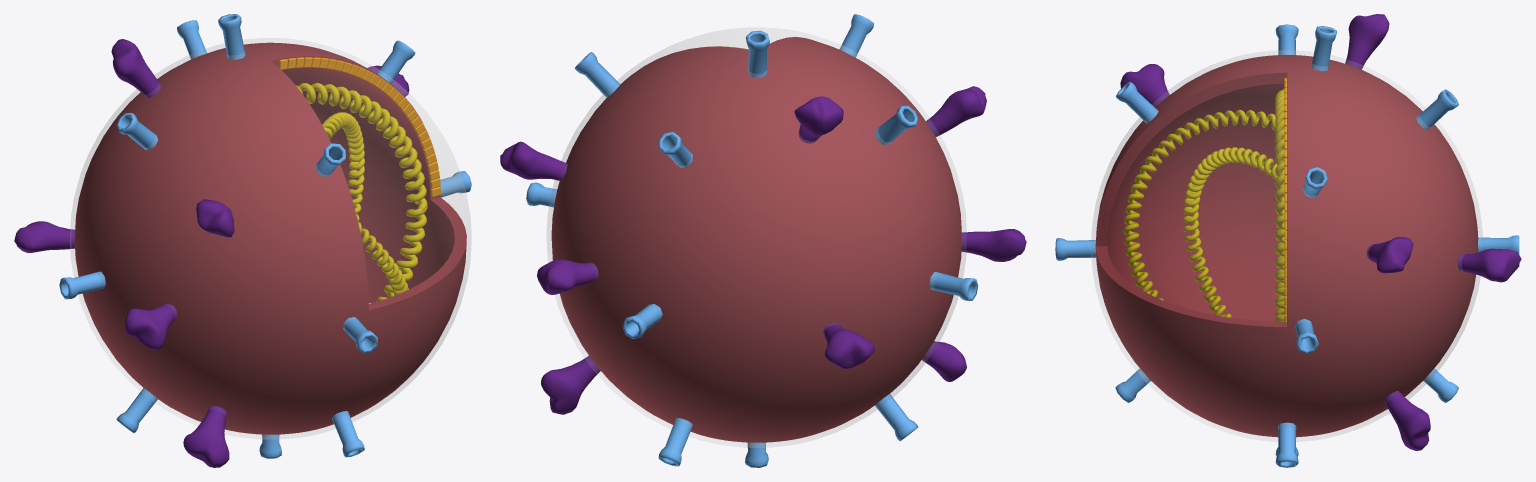
File: covidinside.glb
3 views of the same model, side by side, from view 1: azimuth 30°, elevation 25°; view 2: azimuth 150°, elevation 25°; view 3: azimuth 270°, elevation 25° (orthographic). The views are drawn at different scales.
Parts seen in each view (by area): view 1: CAPA_0, RECORTE_1, Cylinder.002_2, RNAS.002_4, Cylinder.001_6, Cylinder.018_3, Cube.018_5; view 2: CAPA_0, RECORTE_1, Cylinder.002_2, Cylinder.018_3, Cylinder.001_6; view 3: CAPA_0, RECORTE_1, RNAS.002_4, Cylinder.002_2, Cylinder.018_3, Cylinder.001_6, Cube.018_5.
Part boxes in pixels (x1,y1,x2,y2): CAPA_0: (70,38,471,439); RECORTE_1: (74,42,466,434); Cylinder.002_2: (59,14,471,458); RNAS.002_4: (296,82,427,303); Cylinder.001_6: (111,39,229,467); Cylinder.018_3: (14,65,409,253); Cube.018_5: (279,57,441,197); CAPA_0: (546,27,966,447); RECORTE_1: (551,37,961,442); Cylinder.002_2: (526,14,978,467); Cylinder.018_3: (500,86,986,414); Cylinder.001_6: (794,96,1026,381); CAPA_0: (1091,50,1482,441); RECORTE_1: (1095,55,1478,437); RNAS.002_4: (1123,89,1286,321); Cylinder.002_2: (1055,24,1519,467); Cylinder.018_3: (1120,64,1521,450); Cylinder.001_6: (1345,14,1389,69); Cube.018_5: (1284,78,1286,322).
Size of the model in its own units: 2.36 by 2.35 by 2.37.
